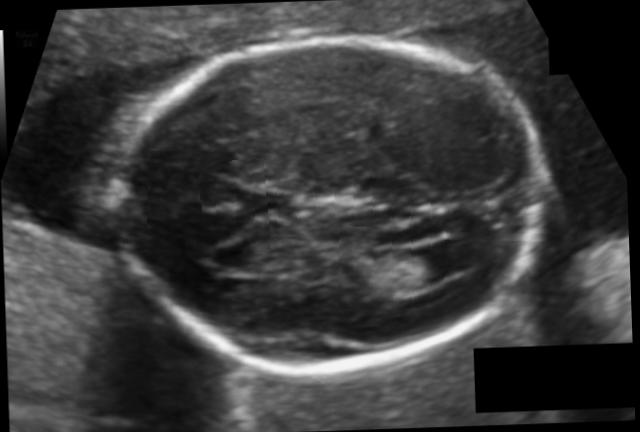CHOROID_PLEXUS: (337, 224, 448, 310)
CSP: (198, 159, 270, 257)
MIDLINE_FALX: (145, 142, 580, 252)
